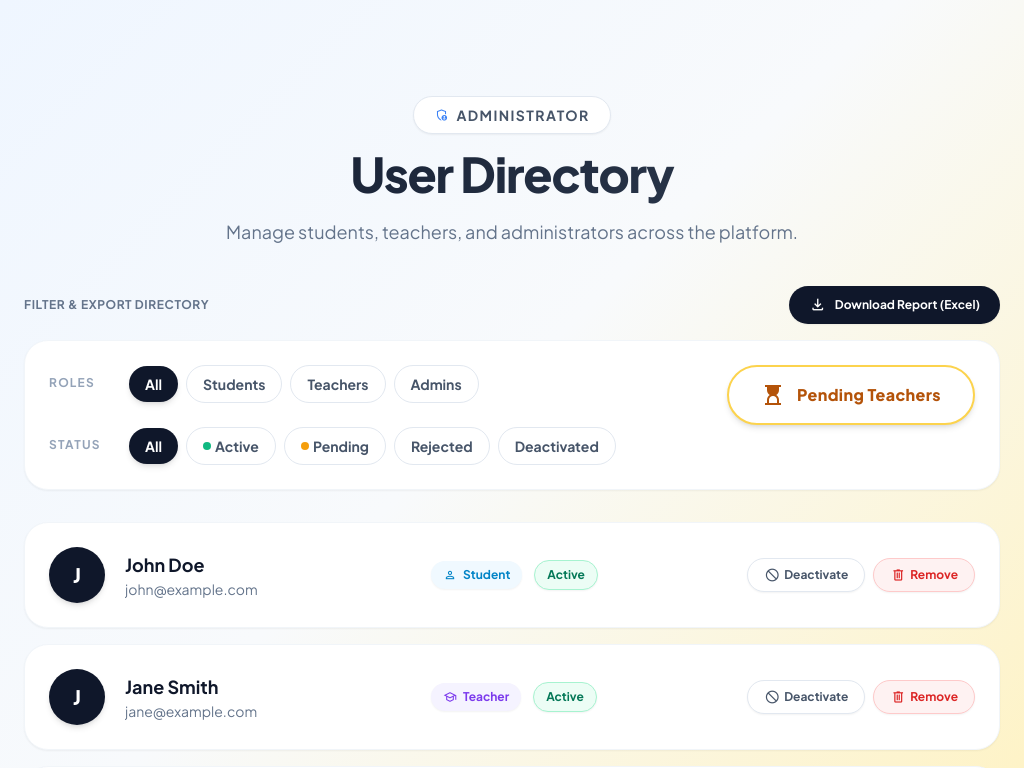
it: AdminUsersPage › clicking Cancel on the delete confirmation leaves the account untouched
The width and height of the screenshot is (1024, 768).
Expected: the heading "John Doe" is shown, x1=125 y1=553 x2=204 y2=576
Step 1. Click the button "Remove" in the row of "john@example.com" → click(924, 575), box x1=873 y1=558 x2=975 y2=592
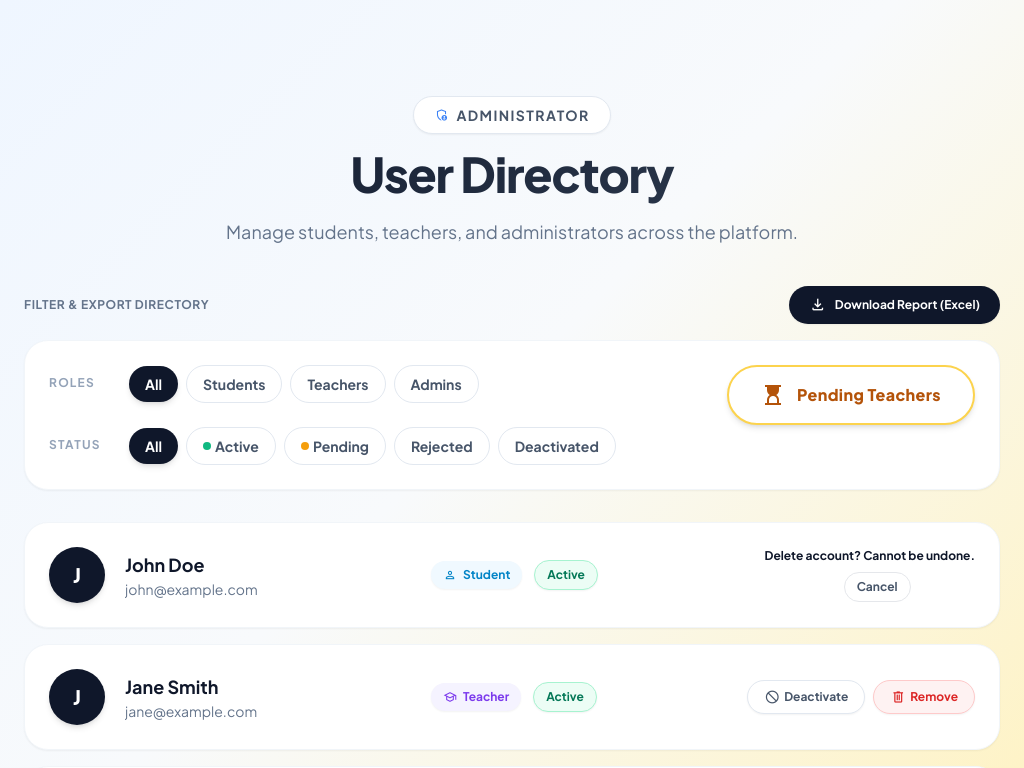
Step 2. Click the button "Cancel" → click(877, 587), box x1=844 y1=572 x2=911 y2=602
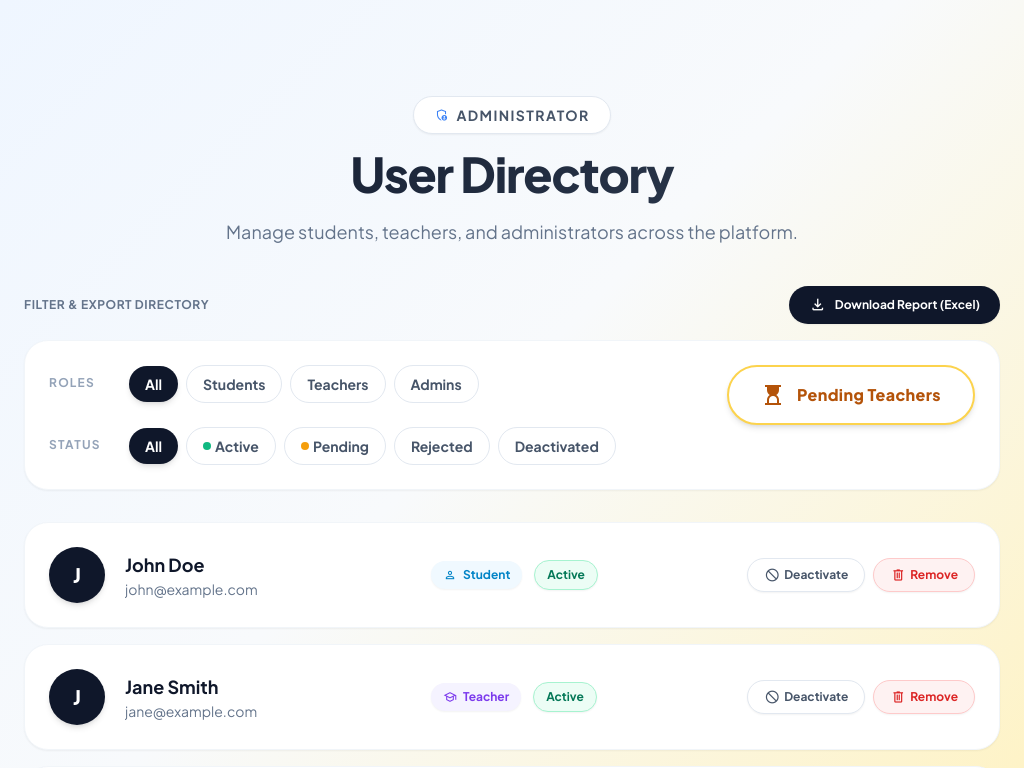
Expected: the heading "John Doe" is shown, x1=125 y1=553 x2=204 y2=576
Expected: the button "Remove" in the row of "john@example.com" is shown, x1=873 y1=558 x2=975 y2=592
